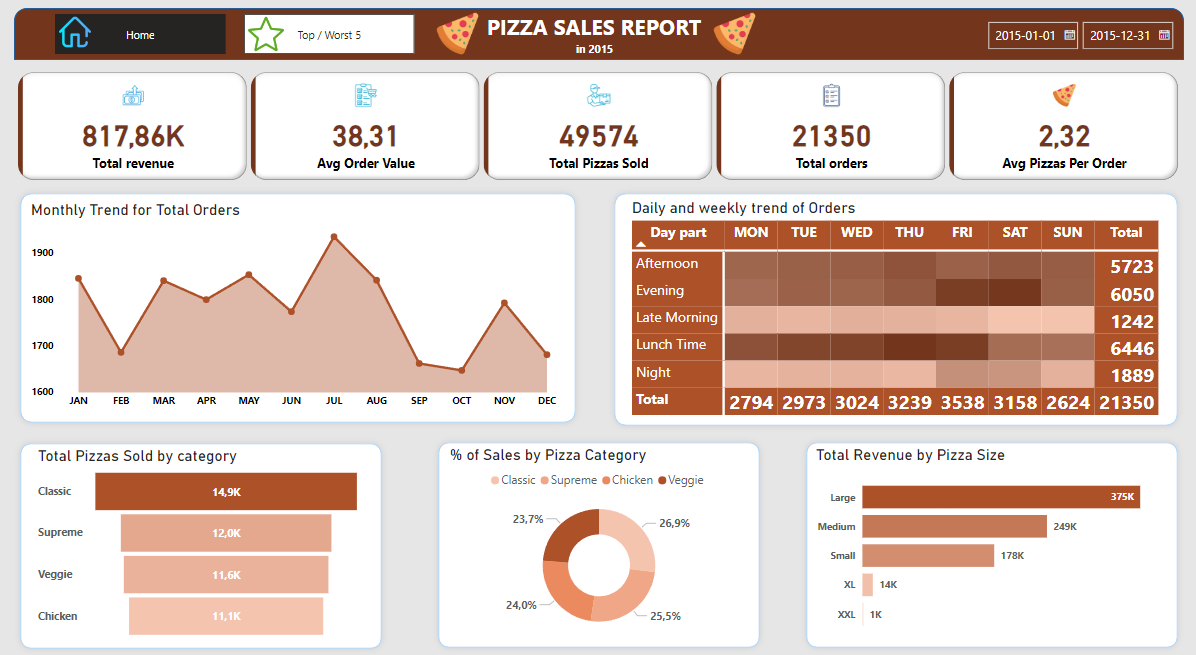

This screenshot's page, from the dashboard's own definition file:
{"tool":"powerbi","page":{"name":"Home","canvas":[1500,820],"ordinal":0},"visuals":[{"type":"cardVisual","fields":{"Data":["pizza_sales3.Total revenue","pizza_sales3.Avg Order Value","pizza_sales3.Total Pizzas Sold","pizza_sales3.Total orders","pizza_sales3.Avg Pizzas Per Order"]},"box":[22.5,86.2,1462.5,145],"z":0},{"type":"shape","box":[22.5,235,710,302.5],"z":0,"group":"g1"},{"type":"shape","box":[22.5,11.2,1462.5,65],"z":1000},{"type":"areaChart","title":"Monthly Trend for Total Orders","fields":{"Y":["pizza_sales3.Total orders"],"Category":["pizza_sales3.Order Month"]},"box":[39.4,252.1,676.3,268.3],"z":1000,"group":"g1"},{"type":"textbox","box":[608.8,11.2,282.5,46.2],"z":2000},{"type":"textbox","box":[720,48.8,66.2,27.5],"z":3000},{"type":"image","box":[545,11.2,63.8,63.8],"z":4000},{"type":"image","box":[891.2,11.2,63.8,63.8],"z":5000},{"type":"group","id":"g1","title":"Group 2","box":[22.5,235,710,302.5],"z":6000},{"type":"shape","box":[545,546.2,417.5,272.5],"z":6000,"group":"g4"},{"type":"group","id":"g2","title":"Group 3","box":[22.5,547.5,467.5,272.5],"z":7000},{"type":"group","id":"g3","title":"Group 4","box":[1005,546.2,480,272.5],"z":8000},{"type":"shape","box":[765,235,720,306.2],"z":9000},{"type":"group","id":"g4","title":"Group 5","box":[545,546.2,417.5,272.5],"z":9000},{"type":"shape","box":[1005,546.2,480,272.5],"z":9000,"group":"g3"},{"type":"slicer","fields":{"Values":["pizza_sales3.order_date"]},"box":[1227.5,18.8,253.8,43.8],"z":10000},{"type":"shape","box":[22.5,547.5,467.5,272.5],"z":10000,"group":"g2"},{"type":"pivotTable","title":"Daily and weekly trend of Orders","fields":{"Values":["pizza_sales3.Total orders"],"Rows":["pizza_sales3.Day part"],"Columns":["pizza_sales3.Order Day"]},"box":[790,250,670,276.2],"z":11000},{"type":"donutChart","title":"% of Sales by Pizza Category","fields":{"Category":["pizza_sales3.pizza_category"],"Y":["pizza_sales3.Total revenue"]},"box":[562.5,558.7,382.5,245],"z":11000,"group":"g4"},{"type":"pageNavigator","box":[73.8,18.8,213.8,50],"z":11001},{"type":"pageNavigator","box":[310,18.8,213.8,50],"z":11002},{"type":"image","box":[73.8,16.2,50,50],"z":11003},{"type":"image","box":[310,16.2,55,55],"z":11004},{"type":"clusteredBarChart","title":"Total Revenue by Pizza Size","fields":{"Category":["pizza_sales3.pizza_size"],"Y":["pizza_sales3.Total revenue"]},"box":[1019.7,558.7,450.6,245],"z":12000,"group":"g3"},{"type":"funnel","title":"Total Pizzas Sold by category","fields":{"Category":["pizza_sales3.pizza_category"],"Y":["pizza_sales3.Total Pizzas Sold"]},"box":[47.9,560,413.6,245],"z":13000,"group":"g2"}]}

Visuals, with their boxes on the page's 1500x820 design canvas (x1, y1, x2, y2). These are canvas units, not pixel positions in the 1196x655 screenshot, which may show the page scaled, cropped or inside an application window:
cardVisual - pizza_sales3.Total revenue x pizza_sales3.Avg Order Value: left=22, top=86, right=1485, bottom=231
shape: left=22, top=235, right=732, bottom=538
shape: left=22, top=11, right=1485, bottom=76
"Monthly Trend for Total Orders" areaChart: left=39, top=252, right=716, bottom=520
textbox: left=609, top=11, right=891, bottom=57
textbox: left=720, top=49, right=786, bottom=76
image: left=545, top=11, right=609, bottom=75
image: left=891, top=11, right=955, bottom=75
"Group 2" group: left=22, top=235, right=732, bottom=538
shape: left=545, top=546, right=962, bottom=819
"Group 3" group: left=22, top=548, right=490, bottom=820
"Group 4" group: left=1005, top=546, right=1485, bottom=819
shape: left=765, top=235, right=1485, bottom=541
"Group 5" group: left=545, top=546, right=962, bottom=819
shape: left=1005, top=546, right=1485, bottom=819
slicer - pizza_sales3.order_date: left=1228, top=19, right=1481, bottom=63
shape: left=22, top=548, right=490, bottom=820
"Daily and weekly trend of Orders" pivotTable: left=790, top=250, right=1460, bottom=526
"% of Sales by Pizza Category" donutChart: left=562, top=559, right=945, bottom=804
pageNavigator: left=74, top=19, right=288, bottom=69
pageNavigator: left=310, top=19, right=524, bottom=69
image: left=74, top=16, right=124, bottom=66
image: left=310, top=16, right=365, bottom=71
"Total Revenue by Pizza Size" clusteredBarChart: left=1020, top=559, right=1470, bottom=804
"Total Pizzas Sold by category" funnel: left=48, top=560, right=462, bottom=805
